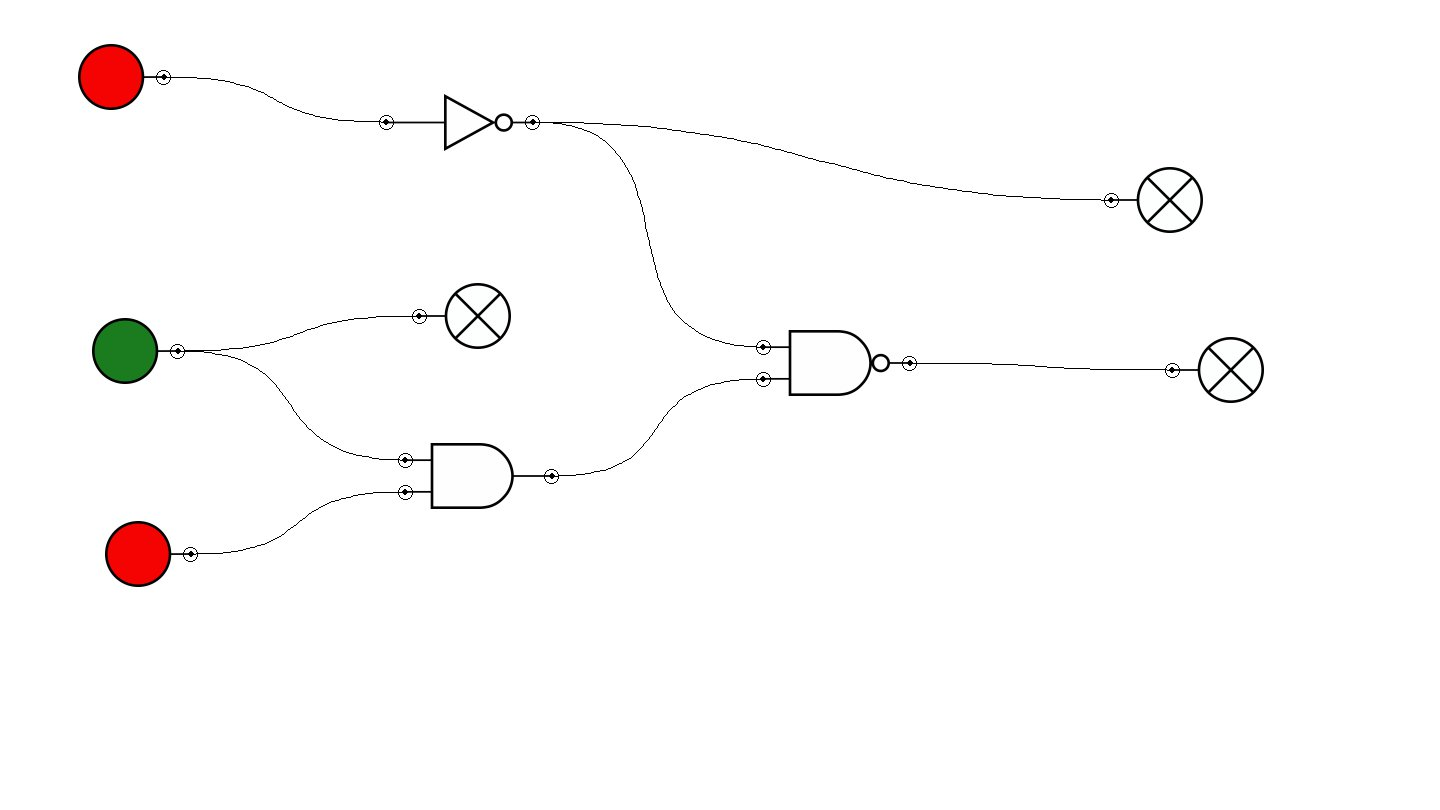and: (398, 443, 559, 509)
bulb: (412, 283, 511, 349), (1104, 167, 1203, 233), (1165, 337, 1264, 403)
nand: (756, 330, 917, 396)
not: (379, 94, 540, 151)
switch_False: (105, 521, 198, 587), (78, 44, 171, 110)
switch_True: (92, 318, 185, 384)
